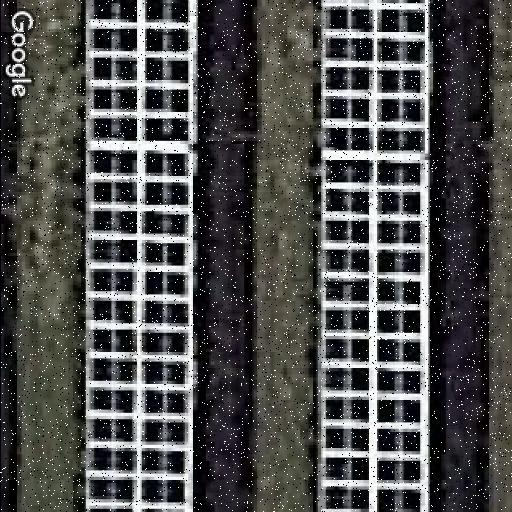solar-panel: (310, 0, 429, 512), (82, 0, 194, 512)
